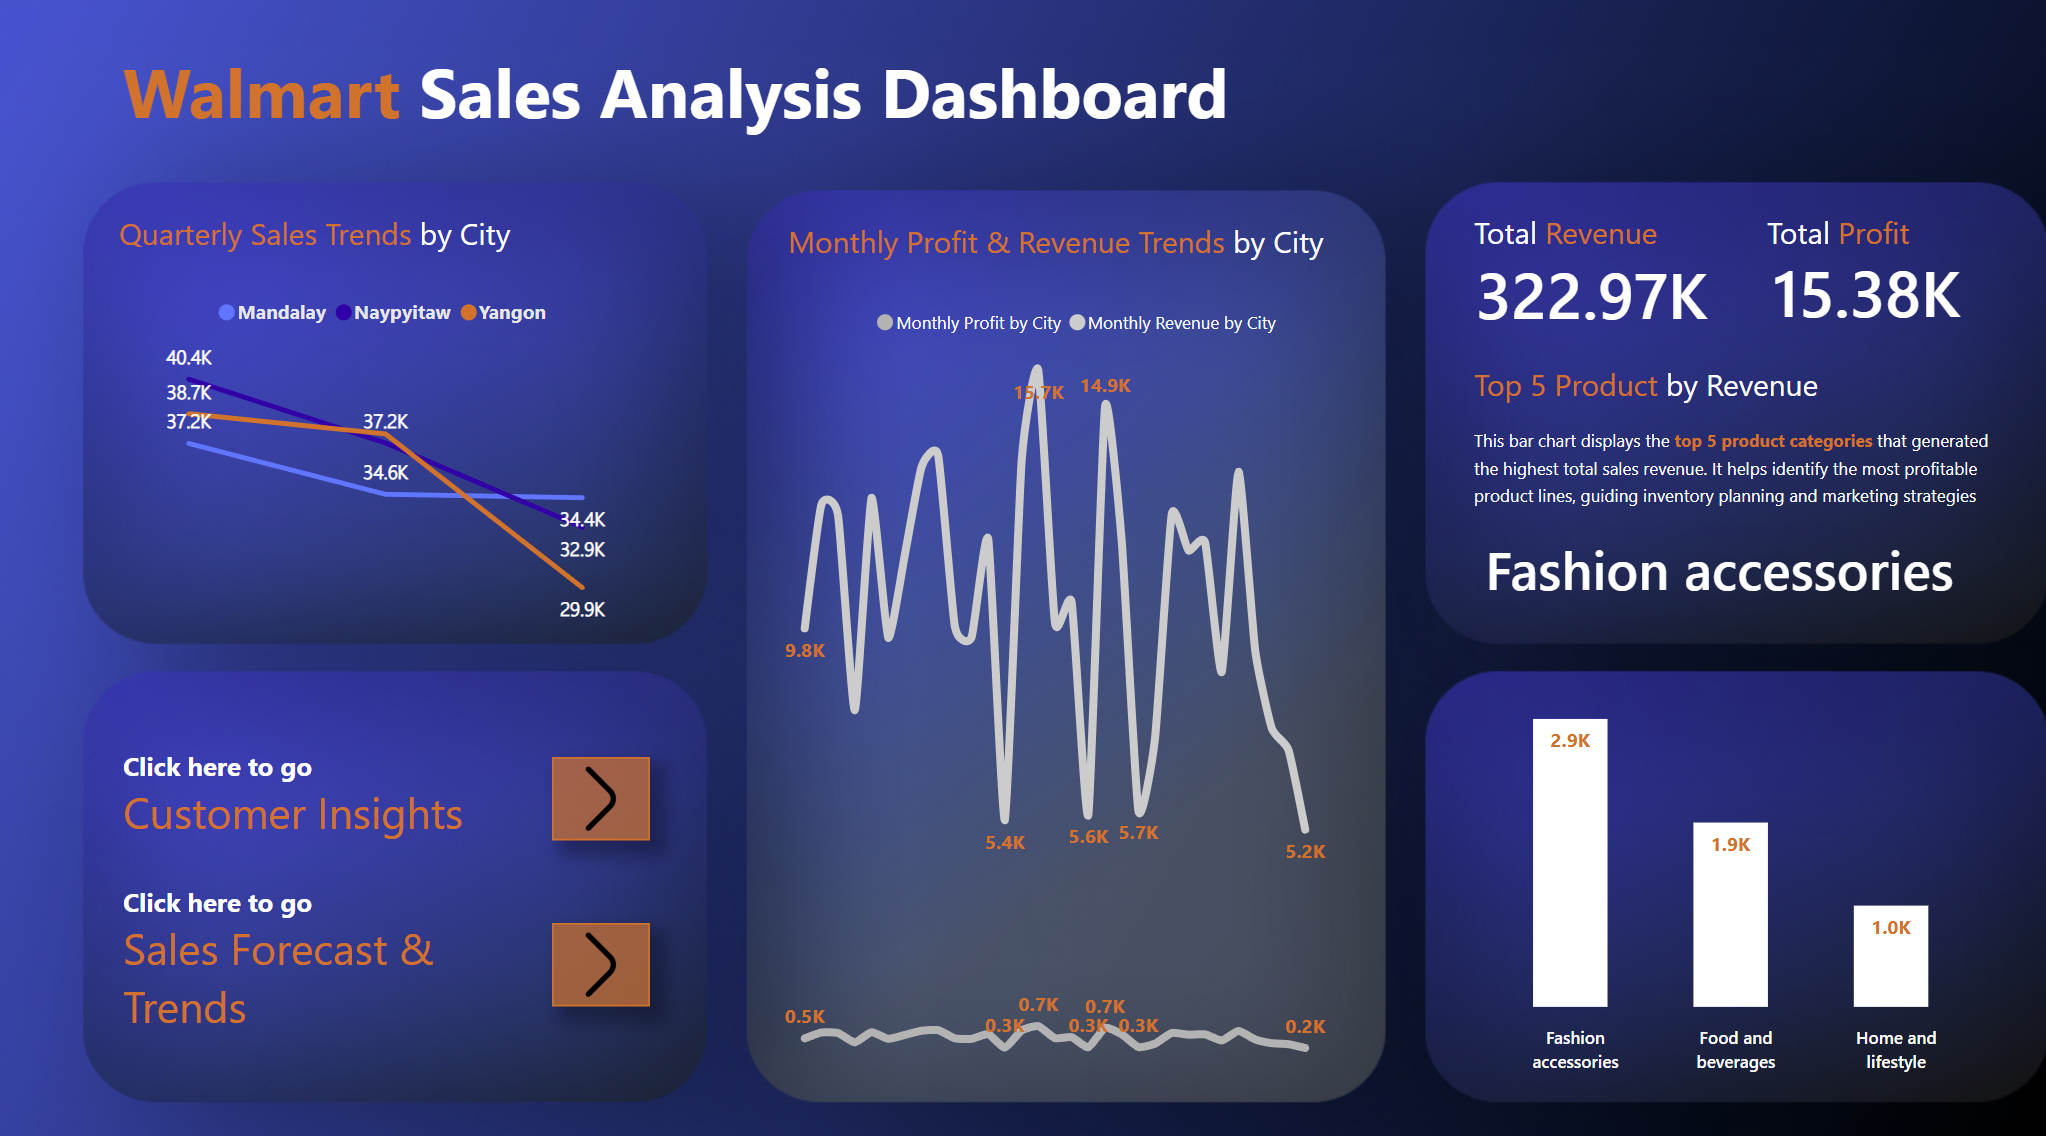

Layout of this report page (visuals, bound fields, positions):
{"tool":"powerbi","page":{"name":"Sales & Profit Analysis","canvas":[1280,720],"ordinal":0},"visuals":[{"type":"card","fields":{"Values":["Walmart Sales.Total Revenue"]},"box":[909.7,159.7,171.6,47.4],"z":0},{"type":"textbox","box":[917.2,127.9,133.5,38.1],"z":1000},{"type":"textbox","box":[1100,127.9,133.5,38.1],"z":2000},{"type":"card","fields":{"Values":["Walmart Sales.Total Profit"]},"box":[1100,157.2,134.1,50.5],"z":3000},{"type":"columnChart","fields":{"Category":["Walmart Sales.Product line"],"Y":["Sum(Walmart Sales.Total)"]},"box":[891,416.2,366.2,257.7],"z":4000},{"type":"textbox","box":[917.2,222.7,233.3,38.1],"z":5000},{"type":"card","fields":{"Values":["Min(Walmart Sales.Product line)"]},"box":[896.6,328.5,360.7,53.3],"z":6000},{"type":"textbox","box":[917.2,260.8,340,68],"z":7000},{"type":"lineChart","fields":{"Category":["Walmart Sales.Month"],"Y":["Walmart Sales.Monthly Sales"],"Series":["Walmart Sales.City"]},"box":[66.1,175.9,353.8,220.2],"z":8000},{"type":"textbox","box":[71.8,128.5,287.6,37.4],"z":9000},{"type":"lineChart","fields":{"Category":["Walmart Sales.Day"],"Y":["Walmart Sales.Monthly Profit by City","Walmart Sales.Monthly Revenue by City"]},"box":[479.2,182.8,394.3,484.2],"z":10000},{"type":"textbox","box":[489.2,133.5,354.4,37.4],"z":11000},{"type":"textbox","box":[74.2,462.9,240.8,82.4],"z":12000},{"type":"textbox","box":[74.2,547.8,243.3,110.4],"z":13000},{"type":"textbox","box":[74.2,23.1,774.3,79.2],"z":14000},{"type":"image","box":[346.9,472.9,61.1,51.8],"z":14001},{"type":"image","box":[346.9,576.5,61.1,51.8],"z":14002}]}

Visuals, with their boxes in screenshot pixels (x1, y1, x2, y2), scaled from the page's 1280x720 canvas onto the 2046x1136 screenshot:
card - Walmart Sales.Total Revenue: [x1=1454, y1=252, x2=1728, y2=327]
textbox: [x1=1466, y1=202, x2=1679, y2=262]
textbox: [x1=1758, y1=202, x2=1972, y2=262]
card - Walmart Sales.Total Profit: [x1=1758, y1=248, x2=1973, y2=328]
columnChart - Walmart Sales.Product line x Sum(Walmart Sales.Total): [x1=1424, y1=657, x2=2010, y2=1063]
textbox: [x1=1466, y1=351, x2=1839, y2=411]
card - Min(Walmart Sales.Product line): [x1=1433, y1=518, x2=2010, y2=602]
textbox: [x1=1466, y1=411, x2=2010, y2=519]
lineChart - Walmart Sales.Month x Walmart Sales.Monthly Sales: [x1=106, y1=278, x2=671, y2=625]
textbox: [x1=115, y1=203, x2=574, y2=262]
lineChart - Walmart Sales.Day x Walmart Sales.Monthly Profit by City: [x1=766, y1=288, x2=1396, y2=1052]
textbox: [x1=782, y1=211, x2=1348, y2=270]
textbox: [x1=119, y1=730, x2=504, y2=860]
textbox: [x1=119, y1=864, x2=508, y2=1038]
textbox: [x1=119, y1=36, x2=1356, y2=161]
image: [x1=554, y1=746, x2=652, y2=828]
image: [x1=554, y1=910, x2=652, y2=991]
